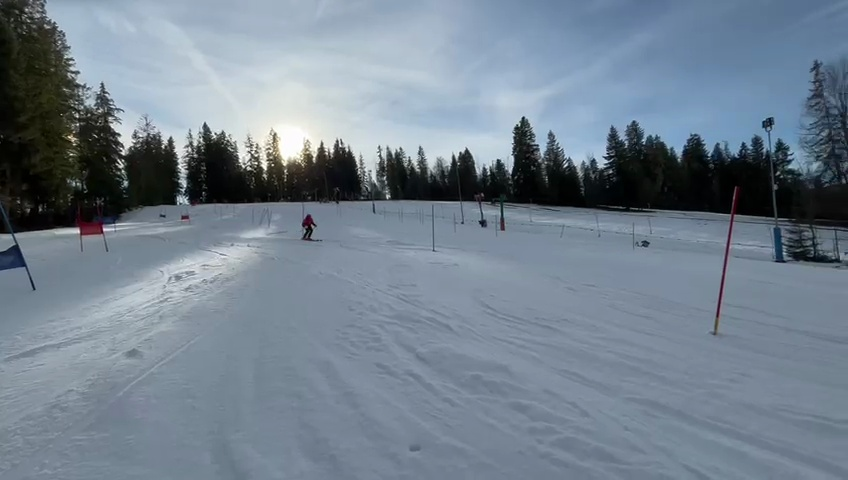gate: (707, 179, 745, 341), (0, 196, 39, 297), (95, 198, 109, 255), (74, 201, 86, 255), (456, 162, 466, 226), (428, 203, 439, 254), (829, 226, 842, 268), (262, 208, 271, 231), (397, 205, 406, 223), (450, 212, 458, 232), (250, 207, 257, 226), (184, 209, 192, 225), (370, 199, 377, 215), (178, 209, 185, 225)
